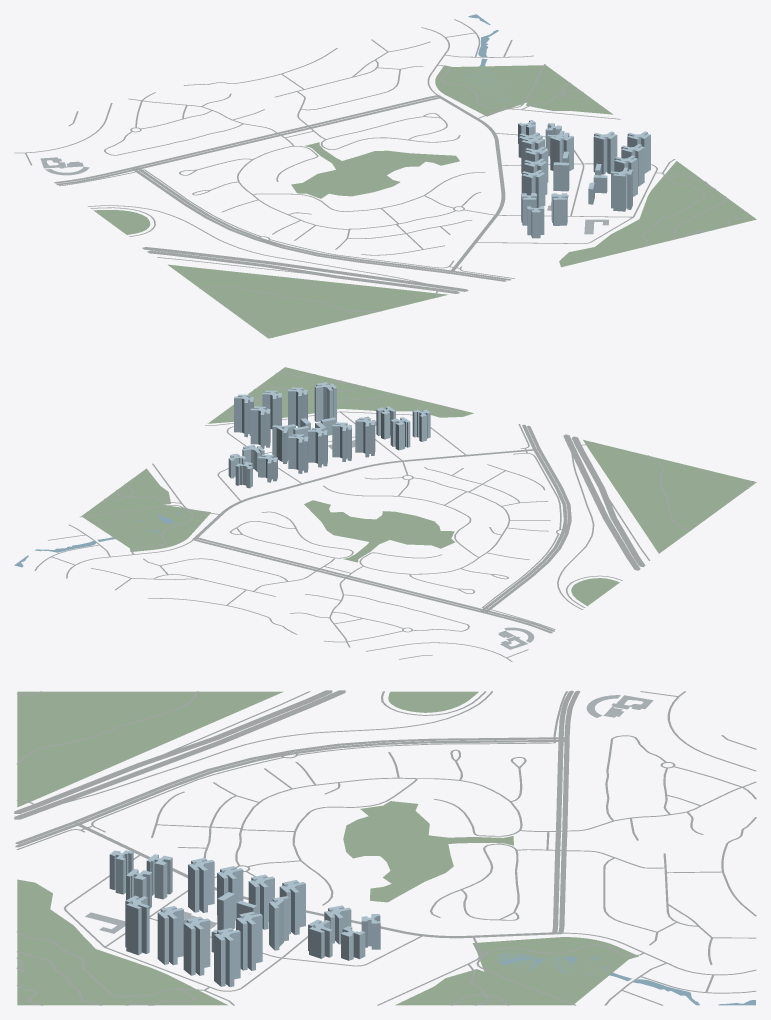
The model's file is -13_6-known-coarse.glb.
The picture shows the model from 3 angles, top to bottom: view 1: azimuth 30°, elevation 25°; view 2: azimuth 150°, elevation 25°; view 3: azimuth 270°, elevation 25°; orthographic projection. The views are drawn at different scales.
Bounding box in the file's own units: 1006 × 69 × 1001.
